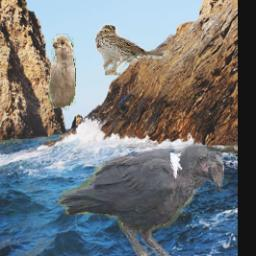Crow: (57, 141, 224, 256)
Sparrow: (94, 23, 169, 75), (49, 34, 77, 125)
